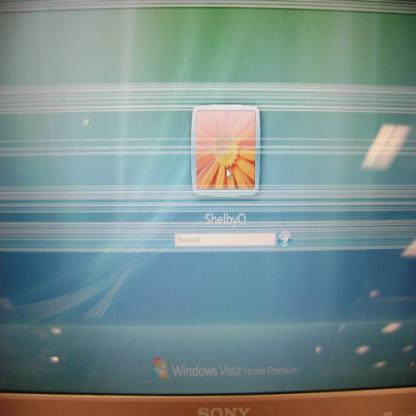lines: (0, 79, 415, 267)
